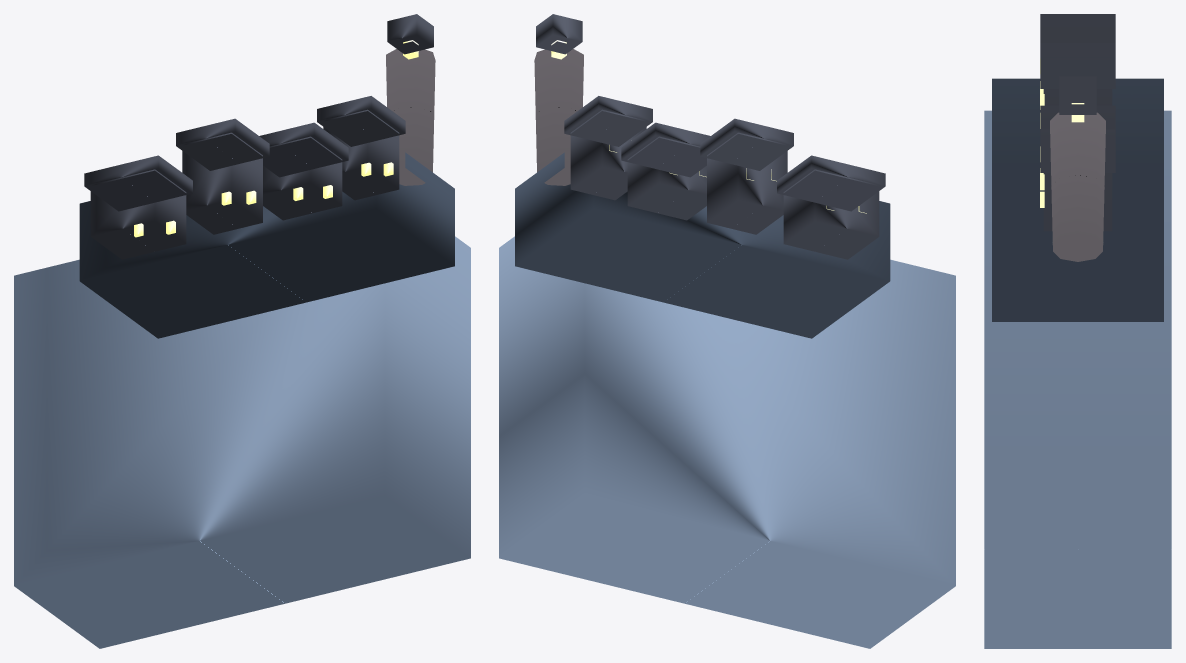
Rendered from bg_village.glb.
3 renders of one model, left to right at view 1: azimuth 30°, elevation 25°; view 2: azimuth 150°, elevation 25°; view 3: azimuth 270°, elevation 25°, orthographic. The views are drawn at different scales.
Bounding box in the file's own units: 152 × 196 × 60.
